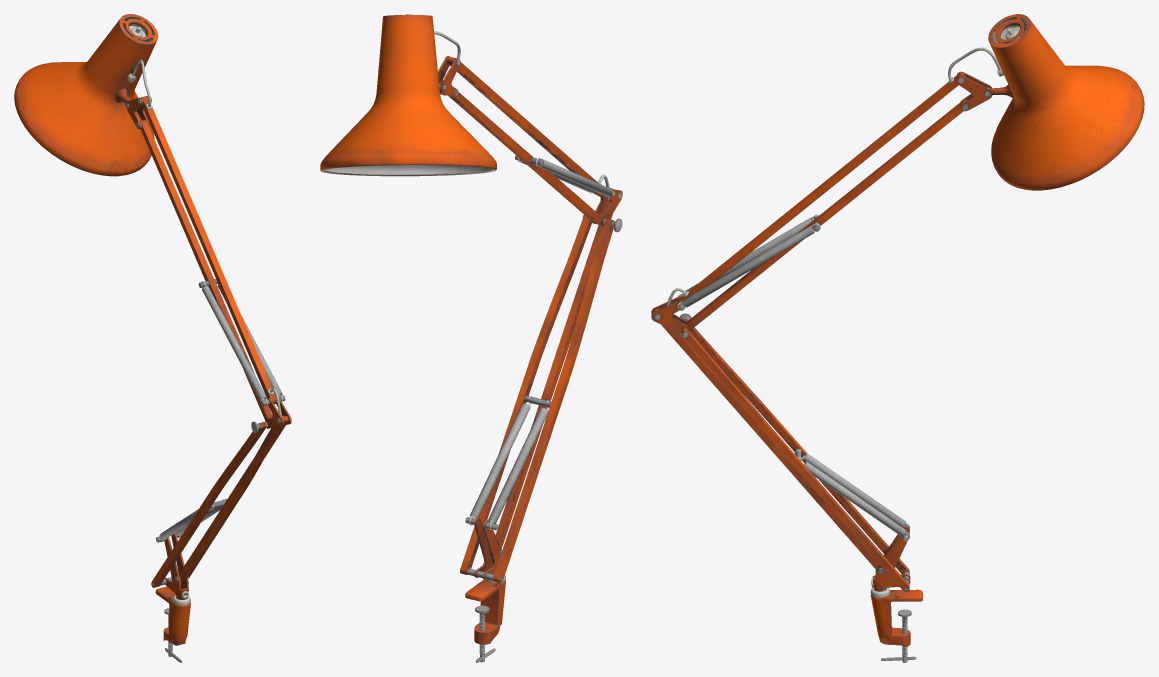
The model's file is desk_lamp_arm_01.glb.
The picture shows the model from 3 angles, left to right: view 1: azimuth 30°, elevation 25°; view 2: azimuth 150°, elevation 25°; view 3: azimuth 270°, elevation 25°; orthographic projection. The views are drawn at different scales.
Visible parts, largest first — view 1: desk_lamp_arm_01; view 2: desk_lamp_arm_01; view 3: desk_lamp_arm_01.
Boxes of the visible parts, <box> form: desk_lamp_arm_01: <box>14,14,291,662</box>; desk_lamp_arm_01: <box>320,14,622,662</box>; desk_lamp_arm_01: <box>651,14,1144,662</box>.
Bounding box in the file's own units: 0.2017 × 0.8926 × 0.6139.
2 materials, 2 textured.
